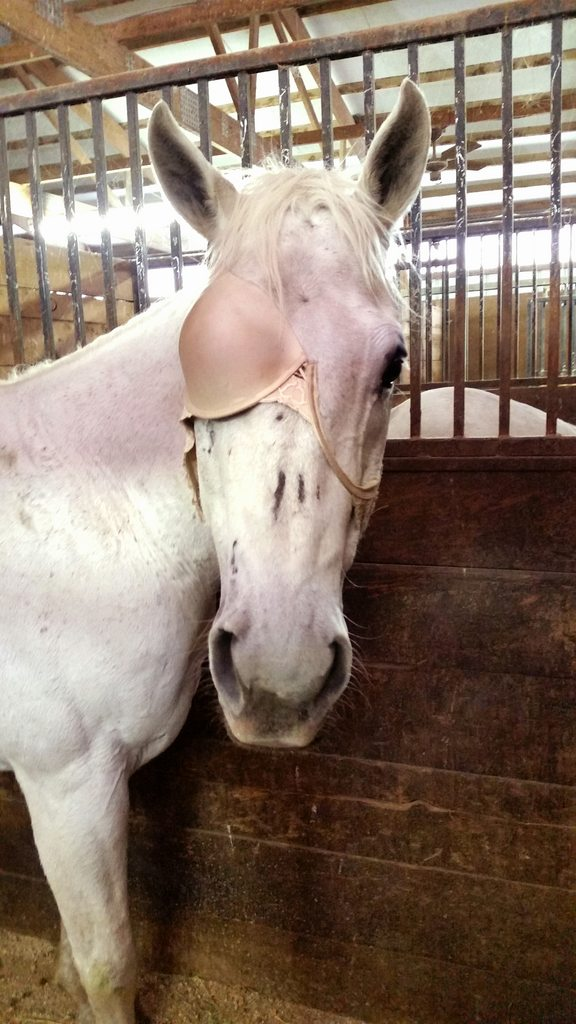Horse: (19, 75, 434, 992)
